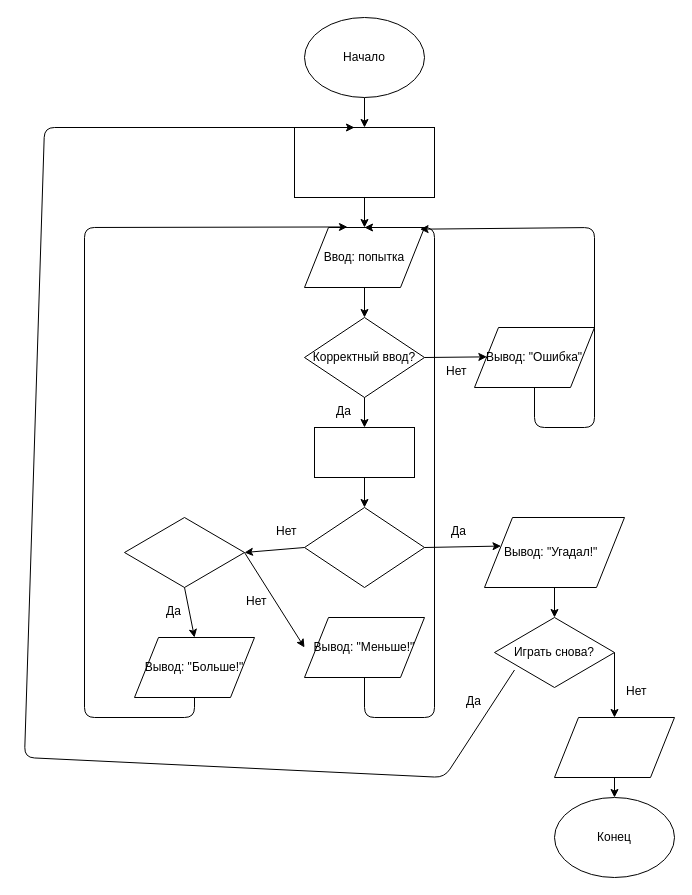
This 692x895 diagram has some shape labels left out. The shapes that lost their labels are listed below. From the top down, each one's centre as x and y in pixels, then its label:
point (364, 162): Загадать число (1-100) attempts = 0
point (364, 452): attempts++
point (184, 552): попытка < числа?
point (364, 547): попытка == число?
point (614, 747): Вывод: "Спасибо!"
